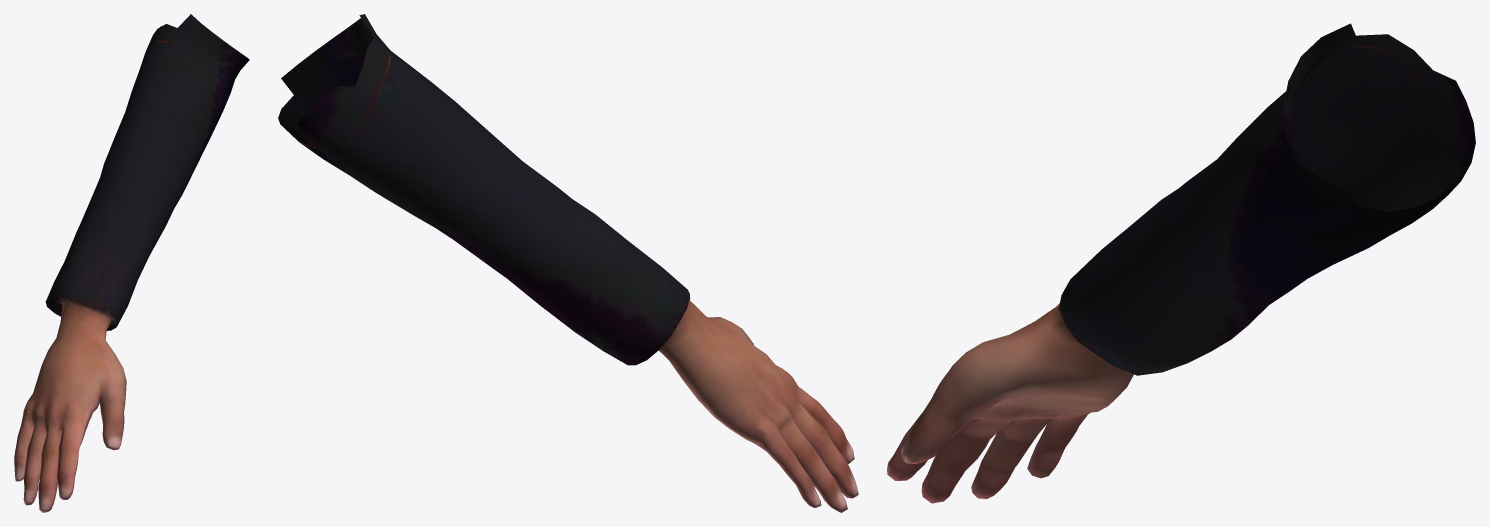
File: ProfesorSubRightArm.obj
The picture shows the model from 3 angles, left to right: view 1: azimuth 30°, elevation 25°; view 2: azimuth 150°, elevation 25°; view 3: azimuth 270°, elevation 25°; orthographic projection. The views are drawn at different scales.
Visible parts, largest first — view 1: ProfesorSubRightArm; view 2: ProfesorSubRightArm; view 3: ProfesorSubRightArm.
Boxes of the visible parts, x1=… form: ProfesorSubRightArm: x1=14, y1=14, x2=249, y2=512; ProfesorSubRightArm: x1=278, y1=14, x2=858, y2=512; ProfesorSubRightArm: x1=887, y1=23, x2=1475, y2=503.
Size of the model in its own units: 31.36 by 34.55 by 25.5.
Materials: 1 (1 with a texture image).
